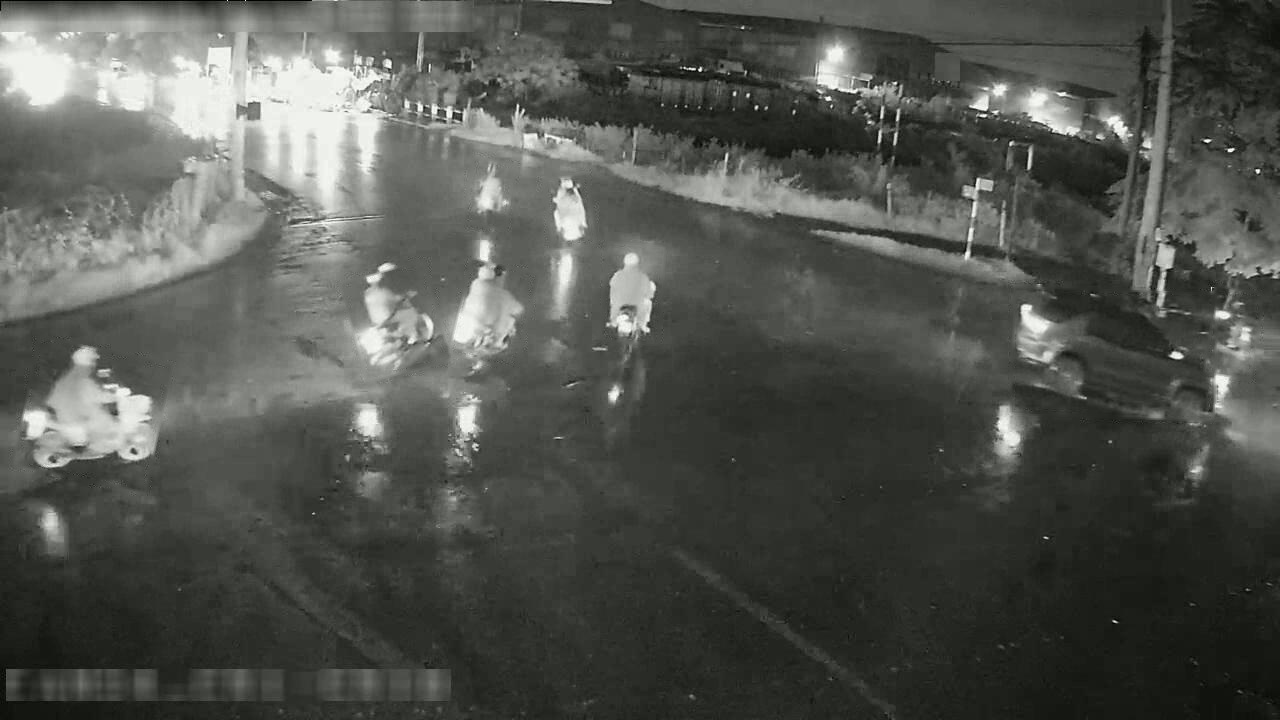Car: (1015, 291, 1218, 420), (21, 346, 157, 469)
Motorcyclist: (353, 262, 441, 376), (452, 265, 524, 363), (608, 251, 656, 337), (1209, 286, 1258, 370), (551, 176, 588, 244), (472, 162, 509, 227)
Pedestrian: (46, 345, 116, 451)
